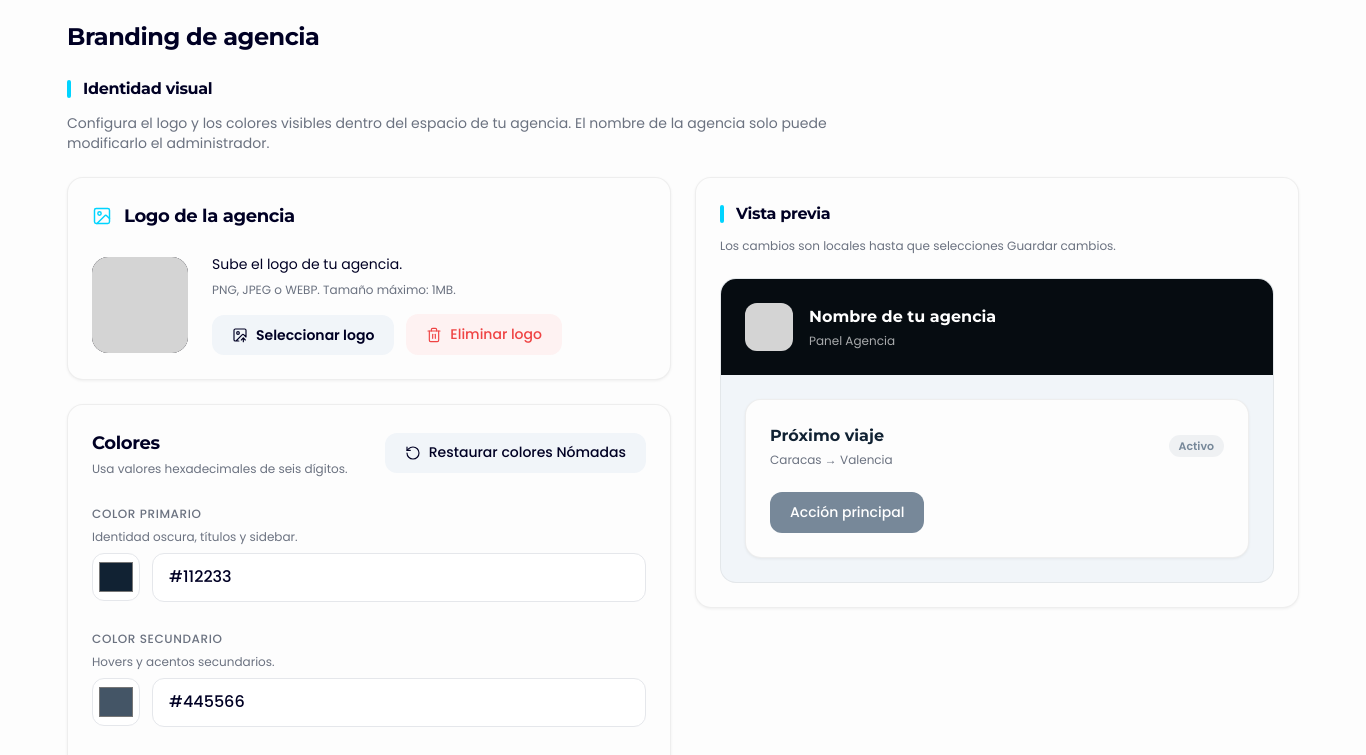
it: AgencyBrandingSettingsPage › restores Nómadas colors locally without saving
Check: the field labelled "Color primario" is shown, box [152,553,646,602]
Step 1. Click the button "Restaurar colores Nómadas" → (515, 453), box [385,433,646,473]
(page scrolled)
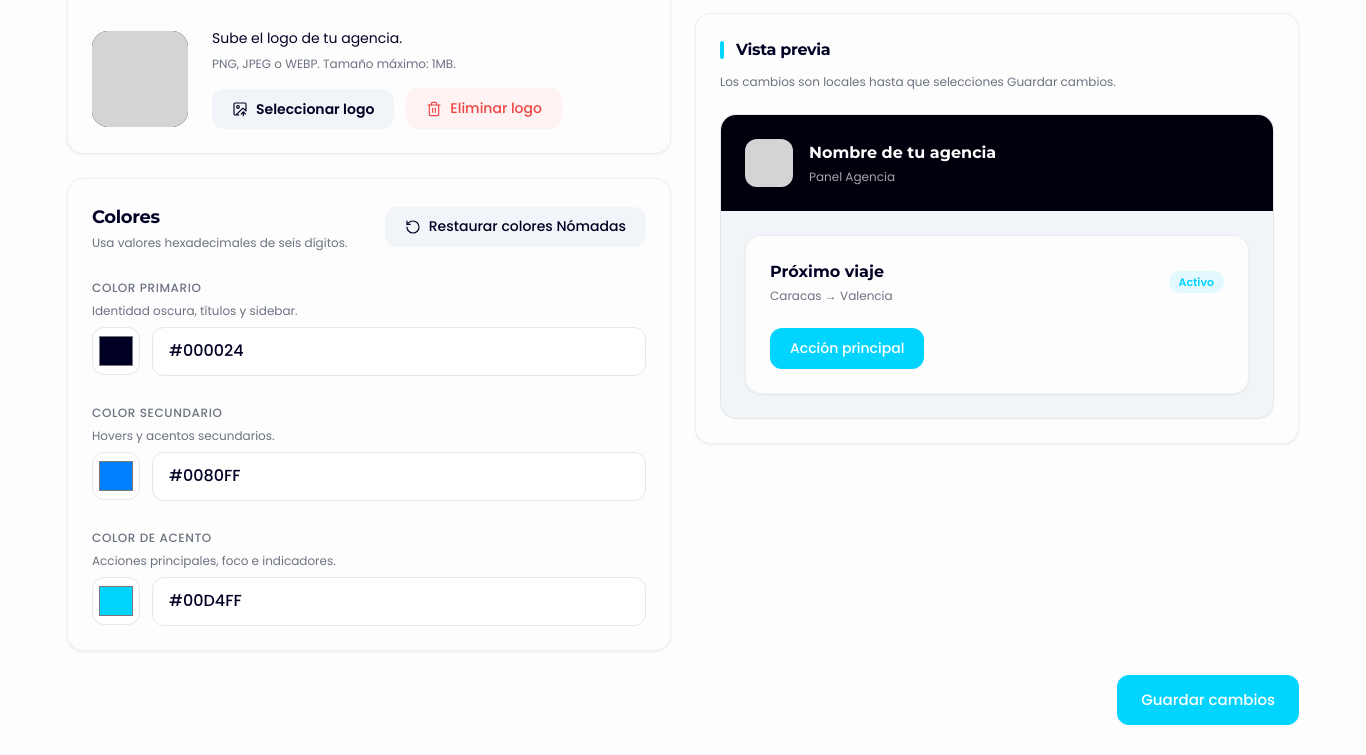
Check: the field labelled "Color primario" holds "#000024", box [152,327,646,376]
Check: the field labelled "Color secundario" holds "#0080FF", box [152,452,646,501]
Check: the field labelled "Color de acento" holds "#00D4FF", box [152,577,646,626]
